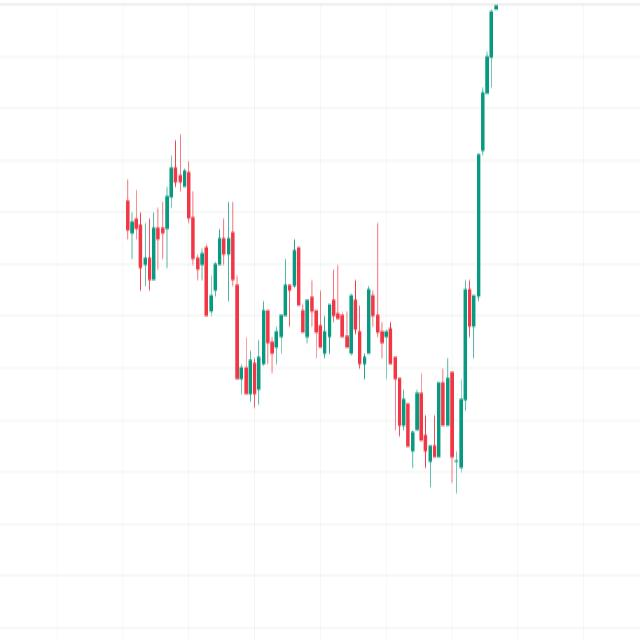Triple-Bottom: (391, 371, 476, 478)
